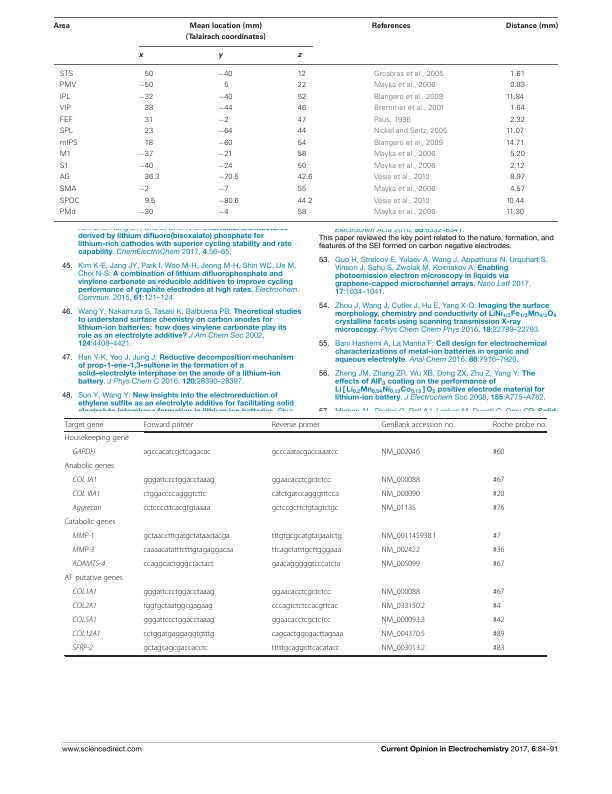borderless: (63, 416, 546, 655), (53, 16, 558, 221)
cell: (185, 22, 267, 42), (142, 545, 234, 555), (142, 531, 231, 541), (142, 475, 215, 485), (142, 587, 215, 597), (142, 615, 215, 625), (142, 629, 215, 639), (271, 629, 344, 639), (271, 531, 343, 541), (142, 559, 214, 569), (142, 601, 214, 611), (271, 545, 342, 555), (142, 447, 212, 457), (271, 559, 341, 569), (271, 489, 340, 499), (142, 503, 211, 513), (271, 643, 340, 653), (271, 447, 339, 457), (271, 503, 339, 513), (271, 601, 339, 611), (373, 127, 448, 136), (381, 420, 456, 429), (142, 643, 209, 653), (64, 433, 130, 443), (142, 489, 207, 499), (373, 105, 445, 114), (373, 70, 444, 79), (373, 93, 444, 102), (373, 139, 444, 148), (271, 475, 332, 485), (63, 573, 124, 583), (271, 587, 332, 597), (271, 615, 332, 625), (373, 162, 436, 171), (373, 185, 436, 194), (373, 208, 436, 217), (381, 531, 437, 541), (64, 517, 116, 527), (373, 174, 430, 183), (373, 197, 430, 206), (64, 461, 115, 471), (373, 82, 436, 90), (373, 151, 436, 159), (492, 420, 547, 429), (142, 420, 194, 429), (381, 601, 426, 611), (381, 615, 426, 625), (381, 629, 426, 639), (381, 643, 426, 653), (271, 420, 320, 429), (505, 22, 559, 30), (381, 447, 421, 457), (381, 475, 421, 485), (381, 489, 421, 499), (381, 545, 421, 555), (381, 559, 421, 569), (381, 587, 421, 597), (64, 420, 104, 429), (381, 503, 417, 513), (373, 116, 412, 125), (371, 22, 412, 30), (71, 559, 106, 568), (71, 503, 102, 513), (71, 489, 101, 499), (71, 475, 98, 485), (71, 629, 101, 638), (71, 447, 96, 457), (71, 587, 98, 596), (71, 601, 98, 610), (71, 615, 98, 624), (71, 531, 95, 540), (71, 545, 95, 554), (217, 174, 240, 183), (217, 197, 240, 206), (71, 643, 94, 652), (59, 197, 81, 206), (505, 93, 525, 102), (505, 127, 525, 136), (59, 139, 79, 148), (505, 139, 525, 148), (505, 197, 525, 206), (505, 208, 525, 217), (59, 185, 77, 194), (59, 208, 77, 217), (217, 70, 234, 79), (509, 70, 526, 79), (217, 93, 234, 102), (217, 105, 234, 114), (509, 105, 526, 114), (509, 116, 526, 125), (217, 127, 234, 136), (217, 139, 234, 148), (217, 151, 234, 160), (217, 162, 234, 171), (509, 174, 526, 183), (509, 185, 526, 194), (52, 22, 71, 30), (59, 82, 77, 90), (138, 93, 154, 102), (138, 151, 154, 160), (138, 162, 154, 171), (509, 162, 525, 171), (144, 174, 160, 183), (297, 174, 313, 183), (297, 197, 313, 206), (138, 208, 154, 217), (509, 82, 526, 90), (509, 151, 526, 159), (59, 70, 74, 79), (59, 116, 74, 125), (59, 127, 74, 136), (492, 447, 505, 457), (492, 475, 505, 485), (492, 489, 505, 499), (492, 503, 505, 513), (492, 545, 505, 555), (492, 559, 505, 569), (492, 587, 505, 597), (492, 615, 505, 625), (492, 629, 505, 639), (492, 643, 505, 653), (138, 82, 154, 90), (59, 93, 72, 102), (59, 105, 72, 114), (59, 151, 72, 160), (217, 116, 229, 125), (59, 174, 71, 183), (138, 185, 150, 194), (217, 185, 229, 194), (144, 197, 156, 206), (217, 208, 229, 217), (144, 70, 154, 79), (297, 70, 307, 79), (297, 93, 307, 102), (144, 105, 154, 114), (297, 105, 307, 114), (144, 116, 154, 125), (297, 116, 307, 125), (144, 127, 154, 136), (297, 127, 307, 136), (144, 139, 154, 148), (297, 139, 307, 148), (297, 151, 307, 160), (59, 162, 69, 171), (297, 162, 307, 171), (297, 185, 307, 194), (297, 208, 307, 217), (492, 531, 501, 541), (492, 601, 501, 611), (297, 82, 307, 90), (223, 82, 229, 90), (138, 53, 144, 60), (217, 53, 223, 60), (297, 53, 302, 60)
